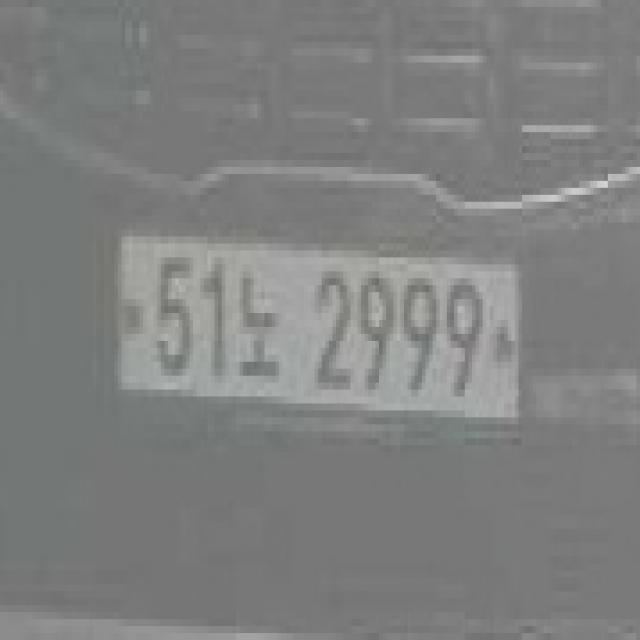1: (199, 246, 227, 388)
2: (310, 272, 353, 397)
5: (144, 245, 196, 393)
9: (442, 270, 489, 410), (357, 266, 397, 402), (401, 267, 438, 403)
license_plate: (110, 205, 529, 438)
no: (236, 267, 284, 385)
